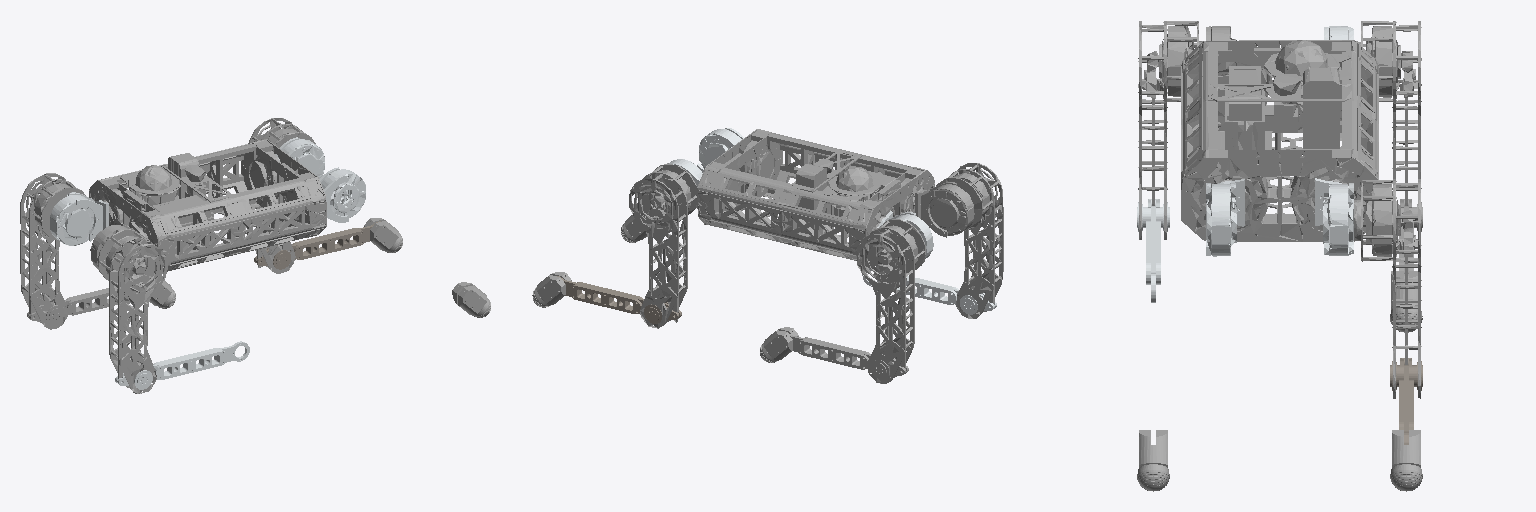
robot.urdf — dog3:
<?xml version="1.0" encoding="utf-8"?>
<!-- This URDF was automatically created by SolidWorks to URDF Exporter! Originally created by Stephen Brawner (brawner@gmail.com) 
     Commit Version: 1.6.0-4-g7f85cfe  Build Version: 1.6.7995.38578
     For more information, please see http://wiki.ros.org/sw_urdf_exporter -->
<robot
  name="dog3">
  <link
    name="base">
    <inertial>
      <origin
        xyz="0.002724 0.004064 0.063062"
        rpy="0 0 0" />
      <mass
        value="5.814207" />
      <inertia
        ixx="0.034603"
        ixy="-0.005958"
        ixz="0.000226"
        iyy="0.118995"
        iyz="-0.000759"
        izz="0.142060" />
    </inertial>
    <visual>
      <origin
        xyz="0 0 0"
        rpy="0 0 0" />
      <geometry>
        <mesh
          filename="package://dog3/meshes/base_link.stl" />
      </geometry>
      <material
        name="">
        <color
          rgba="0.698039215686274 0.698039215686274 0.698039215686274 1" />
      </material>
    </visual>
    <collision>
      <origin
        xyz="0 0 0"
        rpy="0 0 0" />
      <geometry>
        <mesh
          filename="package://dog3/meshes/base_link.stl" />
      </geometry>
    </collision>
  </link>
  <link
    name="FL_hip">
    <inertial>
      <origin
        xyz="0.009270 -0.000389 0.046230"
        rpy="0 0 0" />
      <mass
        value="0.742829095910113" />
      <inertia
        ixx="0.000975"
        ixy="-0.000005"
        ixz="-0.000026"
        iyy="0.000636"
        iyz="0.000000"
        izz="0.000507" />
    </inertial>
    <visual>
      <origin
        xyz="0 0 0"
        rpy="0 0 0" />
      <geometry>
        <mesh
          filename="package://dog3/meshes/left_front1.stl" />
      </geometry>
      <material
        name="">
        <color
          rgba="0.898039215686275 0.917647058823529 0.929411764705882 1" />
      </material>
    </visual>
    <collision>
      <origin
        xyz="0 0 0"
        rpy="0 0 0" />
      <geometry>
        <mesh
          filename="package://dog3/meshes/left_front1.stl" />
      </geometry>
    </collision>
  </link>
  <joint
    name="FL_hip_joint"
    type="revolute">
    <origin
      xyz="0.1986 0.07 0.062"
      rpy="1.5708 0 1.5708" />
    <parent
      link="base" />
    <child
      link="FL_hip" />
    <axis
      xyz="0 0 1" />
    <limit
      lower="-0.7"
      upper="1.5"
      effort="30"
      velocity="30" />
  </joint>
  <link
    name="FL_thigh">
    <inertial>
      <origin
        xyz="0.026948 0.004569 0.040981"
        rpy="0 0 0" />
      <mass
        value="1.18835534772155" />
      <inertia
        ixx="0.001307"
        ixy="-0.000457"
        ixz="-0.000704"
        iyy="0.005007"
        iyz="-0.000120"
        izz="0.005250" />
    </inertial>
    <visual>
      <origin
        xyz="0 0 0"
        rpy="0 0 0" />
      <geometry>
        <mesh
          filename="package://dog3/meshes/left_front2.stl" />
      </geometry>
      <material
        name="">
        <color
          rgba="0.698039215686274 0.698039215686274 0.698039215686274 1" />
      </material>
    </visual>
    <collision>
      <origin
        xyz="0 0 0"
        rpy="0 0 0" />
      <geometry>
        <mesh
          filename="package://dog3/meshes/left_front2.stl" />
      </geometry>
    </collision>
  </link>
  <joint
    name="FL_thigh_joint"
    type="revolute">
    <origin
      xyz="0.0358 0 0.0530001125564165"
      rpy="-1.57079632679489 0 -1.5707963267949" />
    <parent
      link="FL_hip" />
    <child
      link="FL_thigh" />
    <axis
      xyz="0 0 1" />
    <limit
      lower="-2.4"
      upper="2.4"
      effort="30"
      velocity="30" />
  </joint>
  <link
    name="FL_calf">
    <inertial>
      <origin
        xyz="0.050122 0.000000 -0.016133"
        rpy="0 0 0" />
      <mass
        value="0.239198906199937" />
      <inertia
        ixx="0.000050"
        ixy="0.000000"
        ixz="0.000001"
        iyy="0.001375"
        iyz="0.000000"
        izz="0.001370" />
    </inertial>
    <visual>
      <origin
        xyz="0 0 0"
        rpy="0 0 0" />
      <geometry>
        <mesh
          filename="package://dog3/meshes/left_front3.stl" />
      </geometry>
      <material
        name="">
        <color
          rgba="0.647058823529412 0.619607843137255 0.588235294117647 1" />
      </material>
    </visual>
    <collision>
      <origin
        xyz="0 0 0"
        rpy="0 0 0" />
      <geometry>
        <mesh
          filename="package://dog3/meshes/left_front3.stl" />
      </geometry>
    </collision>
  </link>
  <joint
    name="FL_calf_joint"
    type="revolute">
    <origin
      xyz="0.23 0 0.07975"
      rpy="0 0 -1.5704" />
    <parent
      link="FL_thigh" />
    <child
      link="FL_calf" />
    <axis
      xyz="0 0 1" />
    <limit
      lower="-1.1"
      upper="1.1"
      effort="30"
      velocity="30" />
  </joint>
  <link
    name="FL_foot">
    <inertial>
      <origin
        xyz="-0.007799 -0.000002 0.037914"
        rpy="0 0 0" />
      <mass
        value="0.0835602371686811" />
      <inertia
        ixx="0.000048"
        ixy="0.000000"
        ixz="0.000006"
        iyy="0.000051"
        iyz="0.000000"
        izz="0.000023" />
    </inertial>
    <visual>
      <origin
        xyz="0 0 0"
        rpy="0 0 0" />
      <geometry>
        <mesh
          filename="package://dog3/meshes/left_front4.stl" />
      </geometry>
      <material
        name="">
        <color
          rgba="0.698039215686274 0.698039215686274 0.698039215686274 1" />
      </material>
    </visual>
    <collision>
      <origin
        xyz="0 0 0"
        rpy="0 0 0" />
      <geometry>
        <mesh
          filename="package://dog3/meshes/left_front4.stl" />
      </geometry>
    </collision>
  </link>
  <joint
    name="FL_foot_joint"
    type="fixed">
    <origin
      xyz="0.26744 0.042436 -0.0161"
      rpy="1.5708 0 -0.58333" />
    <parent
      link="FL_calf" />
    <child
      link="FL_foot" />
    <axis
      xyz="0 0 0" />
  </joint>
  <link
    name="FR_hip">
    <inertial>
      <origin
        xyz="0.009270 -0.000281 0.046395"
        rpy="0 0 0" />
      <mass
        value="0.742829095911342" />
      <inertia
        ixx="0.000976"
        ixy="-0.000004"
        ixz="-0.000024"
        iyy="0.000637"
        iyz="0.000000"
        izz="0.000507" />
    </inertial>
    <visual>
      <origin
        xyz="0 0 0"
        rpy="0 0 0" />
      <geometry>
        <mesh
          filename="package://dog3/meshes/right_front1.stl" />
      </geometry>
      <material
        name="">
        <color
          rgba="0.898039215686275 0.917647058823529 0.929411764705882 1" />
      </material>
    </visual>
    <collision>
      <origin
        xyz="0 0 0"
        rpy="0 0 0" />
      <geometry>
        <mesh
          filename="package://dog3/meshes/right_front1.stl" />
      </geometry>
    </collision>
  </link>
  <joint
    name="FR_hip_joint"
    type="revolute">
    <origin
      xyz="0.1986 -0.07 0.062001"
      rpy="-1.5708 0 -1.5708" />
    <parent
      link="base" />
    <child
      link="FR_hip" />
    <axis
      xyz="0 0 1" />
    <limit
      lower="-1.5"
      upper="0.7"
      effort="30"
      velocity="30" />
  </joint>
  <link
    name="FR_thigh">
    <inertial>
      <origin
        xyz="0.026317 -0.004372 0.041094"
        rpy="0 0 0" />
      <mass
        value="1.1969219666048" />
      <inertia
        ixx="0.001329"
        ixy="0.000456"
        ixz="-0.000689"
        iyy="0.004980"
        iyz="0.000121"
        izz="0.005240" />
    </inertial>
    <visual>
      <origin
        xyz="0 0 0"
        rpy="0 0 0" />
      <geometry>
        <mesh
          filename="package://dog3/meshes/right_front2.stl" />
      </geometry>
      <material
        name="">
        <color
          rgba="0.698039215686274 0.698039215686274 0.698039215686274 1" />
      </material>
    </visual>
    <collision>
      <origin
        xyz="0 0 0"
        rpy="0 0 0" />
      <geometry>
        <mesh
          filename="package://dog3/meshes/right_front2.stl" />
      </geometry>
    </collision>
  </link>
  <joint
    name="FR_thigh_joint"
    type="revolute">
    <origin
      xyz="0.0358 0 0.0530000000000005"
      rpy="-1.57079632679491 3.14159265 -1.5707963267949" />
    <parent
      link="FR_hip" />
    <child
      link="FR_thigh" />
    <axis
      xyz="0 0 1" />
    <limit
      lower="-2.4"
      upper="2.4"
      effort="30"
      velocity="30" />
  </joint>
  <link
    name="FR_calf">
    <inertial>
      <origin
        xyz="0.050122 0.000000 -0.016133"
        rpy="0 0 0" />
      <mass
        value="0.239198906199937" />
      <inertia
        ixx="0.000050"
        ixy="0.000000"
        ixz="0.000002"
        iyy="0.001375"
        iyz="0.000000"
        izz="0.001370" />
    </inertial>
    <visual>
      <origin
        xyz="0 0 0"
        rpy="0 0 0" />
      <geometry>
        <mesh
          filename="package://dog3/meshes/right_front3.stl" />
      </geometry>
      <material
        name="">
        <color
          rgba="0.898039215686275 0.917647058823529 0.929411764705882 1" />
      </material>
    </visual>
    <collision>
      <origin
        xyz="0 0 0"
        rpy="0 0 0" />
      <geometry>
        <mesh
          filename="package://dog3/meshes/right_front3.stl" />
      </geometry>
    </collision>
  </link>
  <joint
    name="FR_calf_joint"
    type="revolute">
    <origin
      xyz="0.23 0 0.07975"
      rpy="0 0 1.5704" />
    <parent
      link="FR_thigh" />
    <child
      link="FR_calf" />
    <axis
      xyz="0 0 1" />
    <limit
      lower="-1.1"
      upper="1.1"
      effort="30"
      velocity="30" />
  </joint>
  <link
    name="FR_foot">
    <inertial>
      <origin
        xyz="0.002785 -0.000002 0.038608"
        rpy="0 0 0" />
      <mass
        value="0.0835602371656225" />
      <inertia
        ixx="0.000049"
        ixy="0.000000"
        ixz="-0.000002"
        iyy="0.000051"
        iyz="0.000000"
        izz="0.000022" />
    </inertial>
    <visual>
      <origin
        xyz="0 0 0"
        rpy="0 0 0" />
      <geometry>
        <mesh
          filename="package://dog3/meshes/right_front4.stl" />
      </geometry>
      <material
        name="">
        <color
          rgba="0.698039215686274 0.698039215686274 0.698039215686274 1" />
      </material>
    </visual>
    <collision>
      <origin
        xyz="0 0 0"
        rpy="0 0 0" />
      <geometry>
        <mesh
          filename="package://dog3/meshes/right_front4.stl" />
      </geometry>
    </collision>
  </link>
  <joint
    name="FR_foot_joint"
    type="fixed">
    <origin
      xyz="0.26744 -0.042436 -0.0161"
      rpy="-1.5708 0 0.85822" />
    <parent
      link="FR_calf" />
    <child
      link="FR_foot" />
    <axis
      xyz="0 0 0" />
  </joint>
  <link
    name="RL_hip">
    <inertial>
      <origin
        xyz="0.009270 -0.000281 0.046395"
        rpy="0 0 0" />
      <mass
        value="0.742829095909974" />
      <inertia
        ixx="0.000976"
        ixy="-0.000004"
        ixz="-0.000024"
        iyy="0.000637"
        iyz="0.000000"
        izz="0.000507" />
    </inertial>
    <visual>
      <origin
        xyz="0 0 0"
        rpy="0 0 0" />
      <geometry>
        <mesh
          filename="package://dog3/meshes/left_behind1.stl" />
      </geometry>
      <material
        name="">
        <color
          rgba="0.898039215686275 0.917647058823529 0.929411764705882 1" />
      </material>
    </visual>
    <collision>
      <origin
        xyz="0 0 0"
        rpy="0 0 0" />
      <geometry>
        <mesh
          filename="package://dog3/meshes/left_behind1.stl" />
      </geometry>
    </collision>
  </link>
  <joint
    name="RL_hip_joint"
    type="revolute">
    <origin
      xyz="-0.1986 0.07 0.062"
      rpy="-1.5708 0 1.5708" />
    <parent
      link="base" />
    <child
      link="RL_hip" />
    <axis
      xyz="0 0 1" />
    <limit
      lower="-1.5"
      upper="0.7"
      effort="30"
      velocity="30" />
  </joint>
  <link
    name="RL_thigh">
    <inertial>
      <origin
        xyz="0.026646 0.004588 0.040981"
        rpy="0 0 0" />
      <mass
        value="1.18835557038397" />
      <inertia
        ixx="0.001311"
        ixy="-0.000449"
        ixz="-0.000695"
        iyy="0.004952"
        iyz="-0.000120"
        izz="0.005200" />
    </inertial>
    <visual>
      <origin
        xyz="0 0 0"
        rpy="0 0 0" />
      <geometry>
        <mesh
          filename="package://dog3/meshes/left_behind2.stl" />
      </geometry>
      <material
        name="">
        <color
          rgba="0.698039215686274 0.698039215686274 0.698039215686274 1" />
      </material>
    </visual>
    <collision>
      <origin
        xyz="0 0 0"
        rpy="0 0 0" />
      <geometry>
        <mesh
          filename="package://dog3/meshes/left_behind2.stl" />
      </geometry>
    </collision>
  </link>
  <joint
    name="RL_thigh_joint"
    type="revolute">
    <origin
      xyz="0.0358000000000075 0 0.0530000000000009"
      rpy="1.57079632679488 0 1.5707963267949" />
    <parent
      link="RL_hip" />
    <child
      link="RL_thigh" />
    <axis
      xyz="0 0 1" />
    <limit
      lower="-2.4"
      upper="2.4"
      effort="30"
      velocity="30" />
  </joint>
  <link
    name="RL_calf">
    <inertial>
      <origin
        xyz="0.050122 0.000000 -0.016133"
        rpy="0 0 0" />
      <mass
        value="0.239198906199937" />
      <inertia
        ixx="0.000050"
        ixy="0.000000"
        ixz="0.000001"
        iyy="0.001375"
        iyz="0.000000"
        izz="0.001370" />
    </inertial>
    <visual>
      <origin
        xyz="0 0 0"
        rpy="0 0 0" />
      <geometry>
        <mesh
          filename="package://dog3/meshes/left_behind3.stl" />
      </geometry>
      <material
        name="">
        <color
          rgba="0.698039215686274 0.698039215686274 0.698039215686274 1" />
      </material>
    </visual>
    <collision>
      <origin
        xyz="0 0 0"
        rpy="0 0 0" />
      <geometry>
        <mesh
          filename="package://dog3/meshes/left_behind3.stl" />
      </geometry>
    </collision>
  </link>
  <joint
    name="RL_calf_joint"
    type="revolute">
    <origin
      xyz="0.230000000000044 0 0.079749999999963"
      rpy="0 0 -1.5704" />
    <parent
      link="RL_thigh" />
    <child
      link="RL_calf" />
    <axis
      xyz="0 0 1" />
    <limit
      lower="-1.1"
      upper="1.1"
      effort="30"
      velocity="30" />
  </joint>
  <link
    name="RL_foot">
    <inertial>
      <origin
        xyz="0.003227 -0.000002 0.038574"
        rpy="0 0 0" />
      <mass
        value="0.0835602371658816" />
      <inertia
        ixx="0.000049"
        ixy="0.000000"
        ixz="-0.000002"
        iyy="0.000051"
        iyz="0.000000"
        izz="0.000022" />
    </inertial>
    <visual>
      <origin
        xyz="0 0 0"
        rpy="0 0 0" />
      <geometry>
        <mesh
          filename="package://dog3/meshes/left_behind4.stl" />
      </geometry>
      <material
        name="">
        <color
          rgba="0.698039215686274 0.698039215686274 0.698039215686274 1" />
      </material>
    </visual>
    <collision>
      <origin
        xyz="0 0 0"
        rpy="0 0 0" />
      <geometry>
        <mesh
          filename="package://dog3/meshes/left_behind4.stl" />
      </geometry>
    </collision>
  </link>
  <joint
    name="RL_foot_joint"
    type="fixed">
    <origin
      xyz="0.26744 0.042436 -0.0164"
      rpy="1.5708 0 -0.86966" />
    <parent
      link="RL_calf" />
    <child
      link="RL_foot" />
    <axis
      xyz="0 0 0" />
  </joint>
  <link
    name="RR_hip">
    <inertial>
      <origin
        xyz="0.009270 -0.000389 0.046229"
        rpy="0 0 0" />
      <mass
        value="0.742829095909974" />
      <inertia
        ixx="0.000975"
        ixy="-0.000005"
        ixz="-0.000026"
        iyy="0.000636"
        iyz="0.000000"
        izz="0.000507" />
    </inertial>
    <visual>
      <origin
        xyz="0 0 0"
        rpy="0 0 0" />
      <geometry>
        <mesh
          filename="package://dog3/meshes/right_behind1.stl" />
      </geometry>
      <material
        name="">
        <color
          rgba="0.698039215686274 0.698039215686274 0.698039215686274 1" />
      </material>
    </visual>
    <collision>
      <origin
        xyz="0 0 0"
        rpy="0 0 0" />
      <geometry>
        <mesh
          filename="package://dog3/meshes/right_behind1.stl" />
      </geometry>
    </collision>
  </link>
  <joint
    name="RR_hip_joint"
    type="revolute">
    <origin
      xyz="-0.1986 -0.07 0.062"
      rpy="1.5708 0 -1.5708" />
    <parent
      link="base" />
    <child
      link="RR_hip" />
    <axis
      xyz="0 0 1" />
    <limit
      lower="-0.7"
      upper="1.5"
      effort="30"
      velocity="30" />
  </joint>
  <link
    name="RR_thigh">
    <inertial>
      <origin
        xyz="0.026317 -0.004372 0.041094"
        rpy="0 0 0" />
      <mass
        value="1.1969219666048" />
      <inertia
        ixx="0.001329"
        ixy="0.000456"
        ixz="-0.000689"
        iyy="0.004980"
        iyz="0.000121"
        izz="0.005240" />
    </inertial>
    <visual>
      <origin
        xyz="0 0 0"
        rpy="0 0 0" />
      <geometry>
        <mesh
          filename="package://dog3/meshes/right_behind2.stl" />
      </geometry>
      <material
        name="">
        <color
          rgba="0.698039215686274 0.698039215686274 0.698039215686274 1" />
      </material>
    </visual>
    <collision>
      <origin
        xyz="0 0 0"
        rpy="0 0 0" />
      <geometry>
        <mesh
          filename="package://dog3/meshes/right_behind2.stl" />
      </geometry>
    </collision>
  </link>
  <joint
    name="RR_thigh_joint"
    type="revolute">
    <origin
      xyz="0.0358 0 0.0530000000000005"
      rpy="-1.57079632679491 0 -1.5707963267949" />
    <parent
      link="RR_hip" />
    <child
      link="RR_thigh" />
    <axis
      xyz="0 0 1" />
    <limit
      lower="-2.4"
      upper="2.4"
      effort="30"
      velocity="30" />
  </joint>
  <link
    name="RR_calf">
    <inertial>
      <origin
        xyz="0.050122 0.000000 -0.016133"
        rpy="0 0 0" />
      <mass
        value="0.239198906199937" />
      <inertia
        ixx="0.000050"
        ixy="0.000000"
        ixz="0.000002"
        iyy="0.001375"
        iyz="0.000000"
        izz="0.001370" />
    </inertial>
    <visual>
      <origin
        xyz="0 0 0"
        rpy="0 0 0" />
      <geometry>
        <mesh
          filename="package://dog3/meshes/right_behind3.stl" />
      </geometry>
      <material
        name="">
        <color
          rgba="0.898039215686275 0.917647058823529 0.929411764705882 1" />
      </material>
    </visual>
    <collision>
      <origin
        xyz="0 0 0"
        rpy="0 0 0" />
      <geometry>
        <mesh
          filename="package://dog3/meshes/right_behind3.stl" />
      </geometry>
    </collision>
  </link>
  <joint
    name="RR_calf_joint"
    type="revolute">
    <origin
      xyz="0.23 0 0.07975"
      rpy="0 0 1.5704" />
    <parent
      link="RR_thigh" />
    <child
      link="RR_calf" />
    <axis
      xyz="0 0 1" />
    <limit
      lower="-1.1"
      upper="1.1"
      effort="30"
      velocity="30" />
  </joint>
  <link
    name="RR_foot">
    <inertial>
      <origin
        xyz="0.002785 -0.000002 0.038608"
        rpy="0 0 0" />
      <mass
        value="0.0835602371656225" />
      <inertia
        ixx="0.000049"
        ixy="0.000000"
        ixz="-0.000002"
        iyy="0.000051"
        iyz="0.000000"
        izz="0.000022" />
    </inertial>
    <visual>
      <origin
        xyz="0 0 0"
        rpy="0 0 0" />
      <geometry>
        <mesh
          filename="package://dog3/meshes/right_behind4.stl" />
      </geometry>
      <material
        name="">
        <color
          rgba="0.698039215686274 0.698039215686274 0.698039215686274 1" />
      </material>
    </visual>
    <collision>
      <origin
        xyz="0 0 0"
        rpy="0 0 0" />
      <geometry>
        <mesh
          filename="package://dog3/meshes/right_behind4.stl" />
      </geometry>
    </collision>
  </link>
  <joint
    name="RR_foot_joint"
    type="fixed">
    <origin
      xyz="0.26744 -0.042436 -0.0161"
      rpy="-1.5708 0 0.85822" />
    <parent
      link="RR_calf" />
    <child
      link="RR_foot" />
    <axis
      xyz="0 0 0" />
  </joint>
</robot>

--- Render facts (derived) ---
3 views of the same robot in one strip: view 1: azimuth 30°, elevation 25°; view 2: azimuth 150°, elevation 25°; view 3: azimuth 270°, elevation 25° (orthographic).
Model dog3 with 17 links and 16 joints (12 revolute, 4 fixed), rooted at base, posed all joints at 0.
Links seen in each view (by area): view 1: base, RR_thigh, RL_thigh, RL_hip, RR_calf, FR_hip, FL_calf, FL_thigh, RL_calf, FL_hip, FR_foot, FL_foot (+1 smaller); view 2: base, RL_thigh, FL_thigh, RR_thigh, RR_hip, RL_calf, FL_calf, RR_calf, FR_hip, FL_foot, RL_foot, RL_hip; view 3: base, FL_thigh, RR_thigh, RL_thigh, FL_hip, FR_hip, FR_foot, FL_foot, RR_calf, FL_calf, RL_foot.
Boxes of the visible links, x1,y1,x2,y2 form: base: (89, 139, 326, 271); RR_thigh: (98, 229, 167, 393); RL_thigh: (20, 173, 85, 329); RL_hip: (50, 192, 108, 245); RR_calf: (115, 341, 249, 389); FR_hip: (320, 167, 365, 222); FL_calf: (254, 221, 380, 269); FL_thigh: (248, 118, 315, 273); RL_calf: (27, 286, 117, 324); FL_hip: (275, 137, 324, 178); FR_foot: (452, 282, 490, 317); FL_foot: (364, 218, 402, 252); base: (697, 129, 934, 262); RL_thigh: (857, 219, 925, 383); FL_thigh: (629, 163, 696, 328); RR_thigh: (936, 163, 1003, 318); RR_hip: (915, 182, 974, 237); RL_calf: (783, 331, 908, 378); FL_calf: (557, 276, 681, 323); RR_calf: (862, 268, 996, 314); FR_hip: (699, 128, 746, 168); FL_foot: (532, 272, 571, 307); RL_foot: (760, 327, 798, 362); RL_hip: (877, 211, 933, 258); base: (1181, 40, 1378, 241); FL_thigh: (1354, 179, 1421, 398); RR_thigh: (1138, 21, 1202, 239); RL_thigh: (1357, 21, 1421, 205); FL_hip: (1315, 178, 1353, 255); FR_hip: (1206, 179, 1244, 256); FR_foot: (1137, 430, 1169, 491); FL_foot: (1390, 430, 1422, 491); RR_calf: (1137, 199, 1169, 302); FL_calf: (1390, 358, 1422, 444); RL_foot: (1390, 271, 1422, 332).
Size in the robot's own frame: 0.8341 by 0.3836 by 0.379 metres.
14 mesh visuals loaded from 17 distinct referenced files (14 binary STL); not drawn: 3 (reference not matched to a file when rendering).
